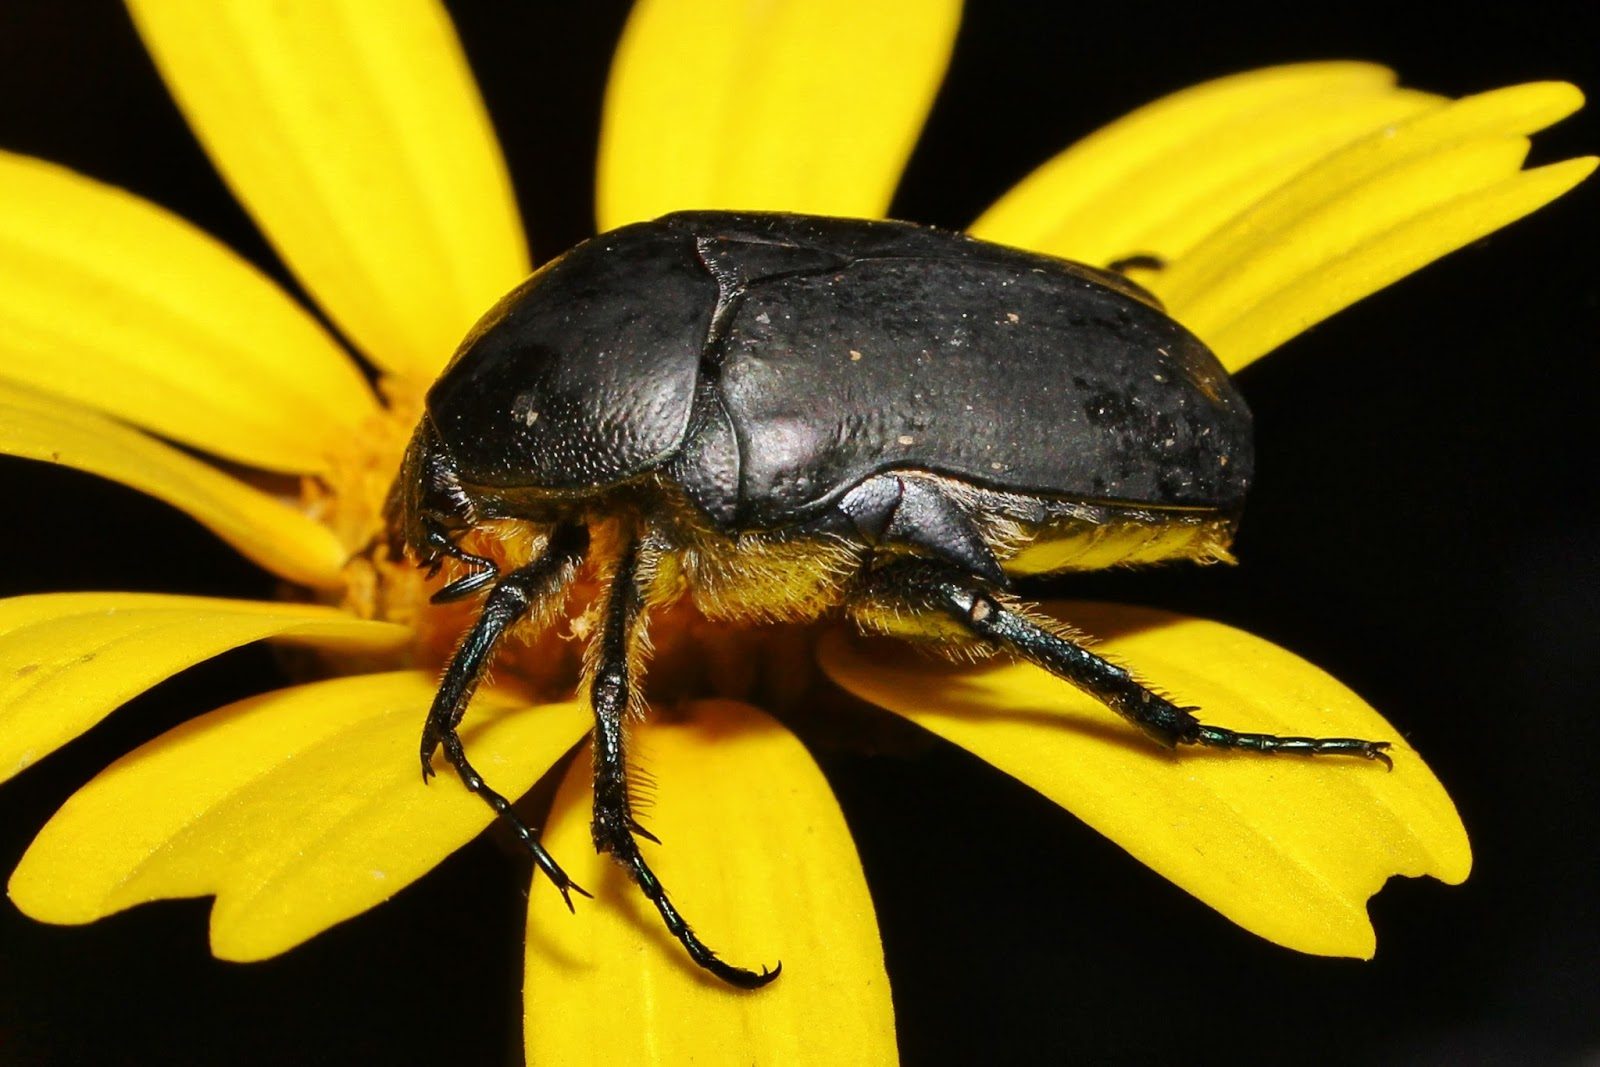Protaetia_afflicta: (371, 196, 1399, 990)
